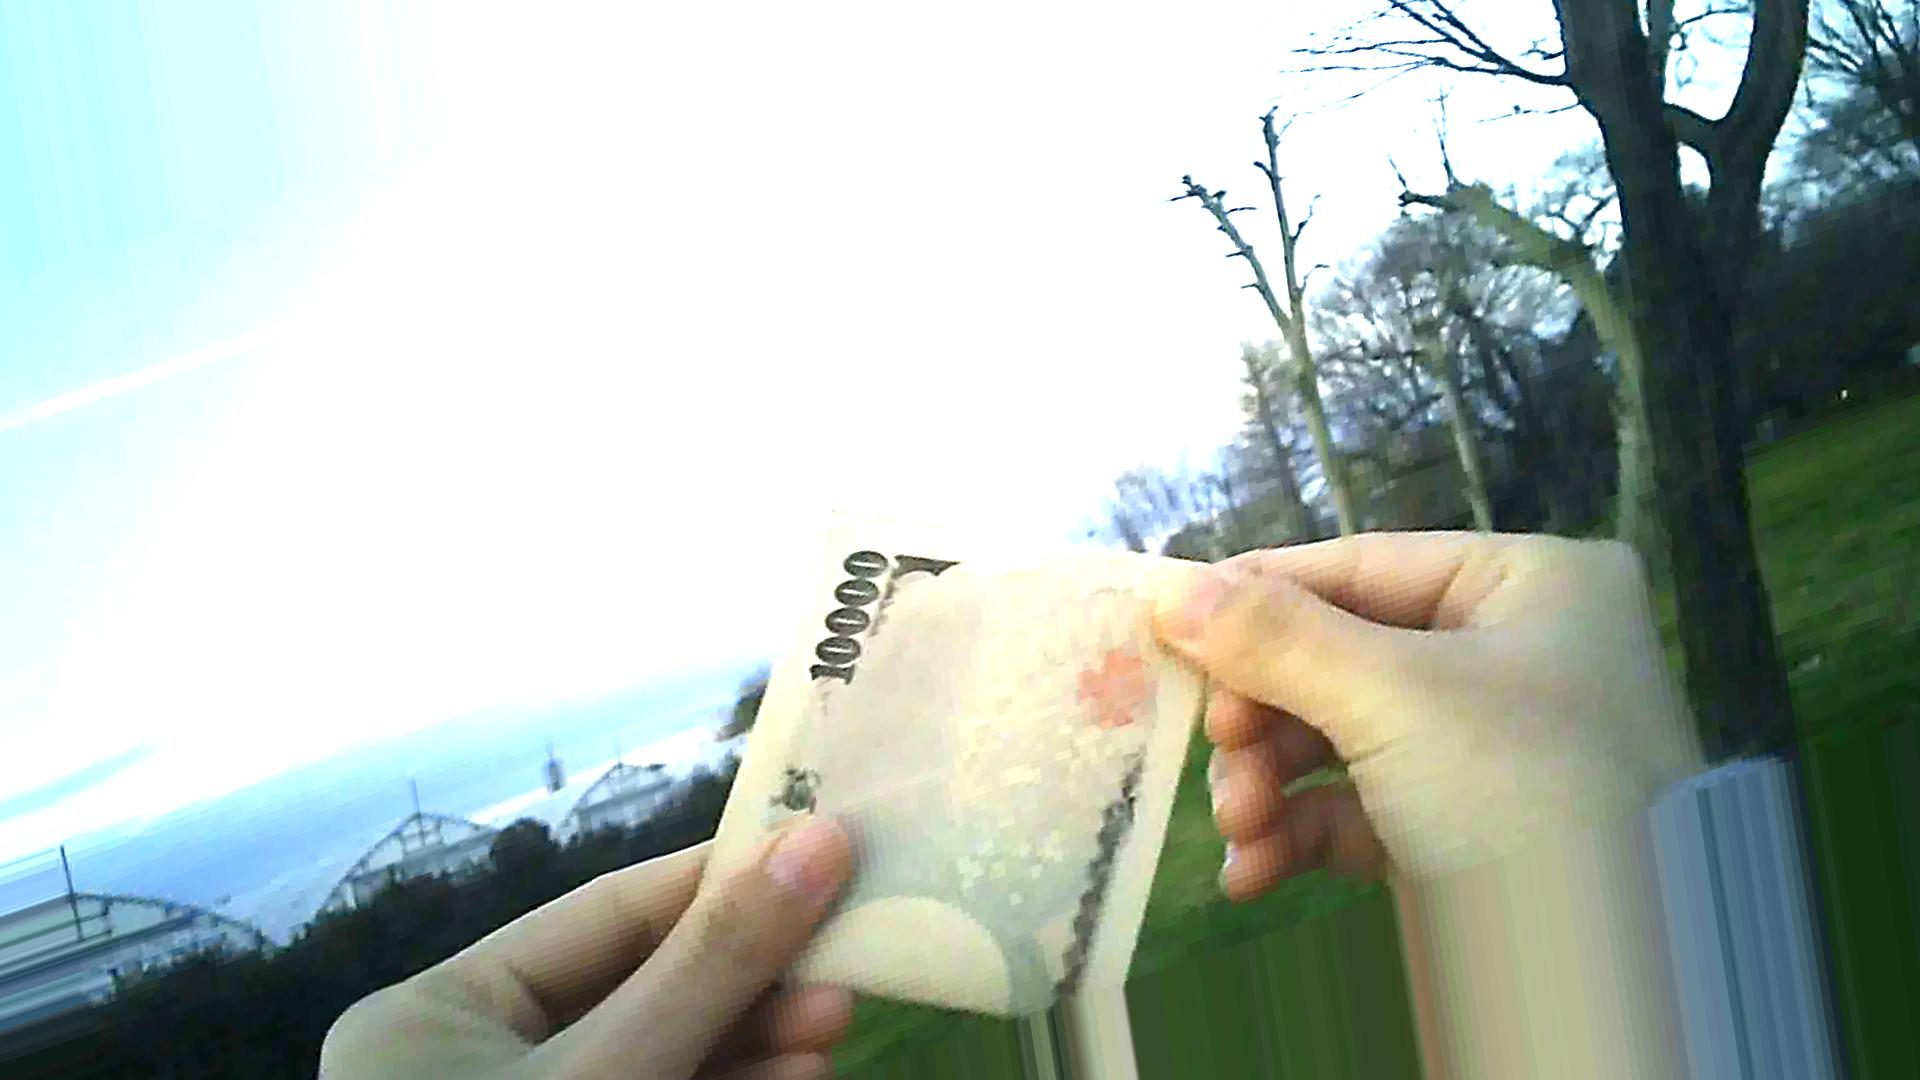10,000 Yen: (728, 517, 1215, 1029)
